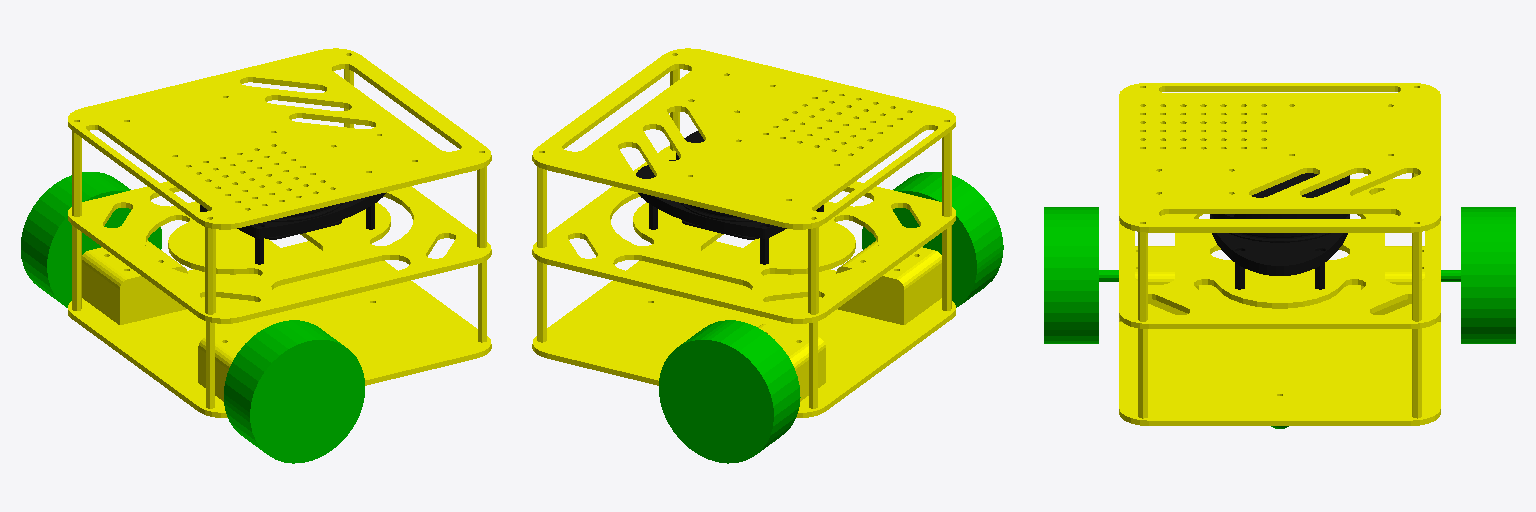
robot.urdf — rham_bot:
<?xml version="1.0" encoding="utf-8"?>
<!-- This URDF was automatically created by SolidWorks to URDF Exporter! Originally created by [author] ([email redacted]) 
     Commit Version: 1.6.0-4-g7f85cfe  Build Version: 1.6.7995.38578
     For more information, please see http://wiki.ros.org/sw_urdf_exporter -->
<robot name="rham_bot">

  <gazebo>
    <plugin name="gazebo_ros_control" filename="libgazebo_ros_control.so">
      <robotNamespace>/rham_bot</robotNamespace>
    </plugin>
  </gazebo>

  <gazebo reference="basefoot_link">
    <mu1>1.5</mu1>
    <mu2>1.5</mu2>
    <selfCollide>true</selfCollide>
    <material>Gazebo/Yellow</material>
  </gazebo>

  <gazebo reference="left_motor_link">
    <mu1>1.5</mu1>
    <mu2>1.5</mu2>
    <selfCollide>true</selfCollide>
    <material>Gazebo/Green</material>
  </gazebo>

  <gazebo reference="right_motor_link">
    <mu1>1.5</mu1>
    <mu2>1.5</mu2>
    <selfCollide>true</selfCollide>
    <material>Gazebo/Green</material>
  </gazebo>

  <gazebo reference="caster_link">
    <mu1>0.001</mu1>
    <mu2>0.001</mu2>
    <selfCollide>true</selfCollide>
    <material>Gazebo/Green</material>
  </gazebo>

  <gazebo reference="laser_link">
    <mu1>1.5</mu1>
    <mu2>1.5</mu2>
    <selfCollide>true</selfCollide>
    <material>Gazebo/Black</material>
  </gazebo>

  <gazebo>
    <plugin name="differential_drive_controller" filename="libgazebo_ros_diff_drive.so">
      <!-- info -->
      <leftJoint>left_motor_link_jt</leftJoint>
      <rightJoint>right_motor_link_jt</rightJoint>
      <wheelSeparation>0.234</wheelSeparation>
      <wheelDiameter>0.065</wheelDiameter>

      <!-- speed -->
      <wheelAcceleration>1.0</wheelAcceleration>
      <max_wheel_acceleration>10.0</max_wheel_acceleration>
      <wheelTorque>3</wheelTorque>

      <!-- node -->
      <commandTopic>cmd_vel</commandTopic>
      <odometryTopic>odom</odometryTopic>
      <odometryFrame>odom</odometryFrame>
      <publishOdom>true</publishOdom>
      <robotBaseFrame>basefoot_link</robotBaseFrame>
      <odometrySource>1</odometrySource>
      <publishWheelTF>true</publishWheelTF>
      <publishWheelJointState>true</publishWheelJointState>
    </plugin>
  </gazebo>

  <link name="basefoot_link">
    <inertial>
      <origin xyz="-0.0144145743589182 -0.000274313076569756 0.0386925952322384" rpy="0 0 0" />
      <mass value="0.286709642035174" />
      <inertia ixx="0.000455635294970899" ixy="4.80014762382226E-06" ixz="2.06034221124651E-21" iyy="0.000503838101926631" iyz="-2.44158544404845E-21" izz="0.000949529356246916" />
    </inertial>
    <visual>
      <origin xyz="0 0 0" rpy="0 0 0" />
      <geometry>
        <mesh filename="package://rham_description/meshes/basefoot_link.STL" />
      </geometry>
      <material name="brightyellow">
        <color rgba="1.0 0.9921568627450981 0.00392156862745098 1.0" />
      </material>
    </visual>
    <collision>
      <origin xyz="0 0 0" rpy="0 0 0" />
      <geometry>
        <mesh filename="package://rham_description/meshes/basefoot_link.STL" />
      </geometry>
    </collision>
  </link>
  <link name="left_motor_link">
    <inertial>
      <origin xyz="-6.93889390390723E-18 -0.013634747706422 0" rpy="0 0 0" />
      <mass value="0.0986208765814908" />
      <inertia ixx="3.46254938837746E-05" ixy="8.08369757275774E-23" ixz="4.95401915443896E-22" iyy="5.66785600544717E-05" iyz="9.10504727518394E-22" izz="3.46254938837746E-05" />
    </inertial>
    <visual>
      <origin xyz="0 0 0" rpy="0 0 0" />
      <geometry>
        <mesh filename="package://rham_description/meshes/left_motor_link.STL" />
      </geometry>
      <material name="Green">
        <color rgba="0.0 0.8 0.0 1.0"/>
      </material>
    </visual>
    <collision>
      <origin xyz="0 0 0" rpy="0 0 0" />
      <geometry>
        <mesh filename="package://rham_description/meshes/left_motor_link.STL" />
      </geometry>
    </collision>
  </link>
  <joint name="left_motor_link_jt" type="continuous">
    <origin xyz="-0.051108 0.117 0.016" rpy="0 0 0" />
    <parent link="basefoot_link" />
    <child link="left_motor_link" />
    <axis xyz="0 1 0" />
  </joint>
  <link name="right_motor_link">
    <inertial>
      <origin xyz="6.93889390390723E-18 0.013634747706422 0" rpy="0 0 0" />
      <mass value="0.0986208765814908" />
      <inertia ixx="3.46254938837746E-05" ixy="-9.29432687482328E-22" ixz="2.27226756606387E-22" iyy="5.66785600544717E-05" iyz="4.98729854505524E-23" izz="3.46254938837746E-05" />
    </inertial>
    <visual>
      <origin xyz="0 0 0" rpy="0 0 0" />
      <geometry>
        <mesh filename="package://rham_description/meshes/right_motor_link.STL" />
      </geometry>
      <material name="Green">
        <color rgba="0.0 0.8 0.0 1.0"/>
      </material>
    </visual>
    <collision>
      <origin xyz="0 0 0" rpy="0 0 0" />
      <geometry>
        <mesh filename="package://rham_description/meshes/right_motor_link.STL" />
      </geometry>
    </collision>
  </link>
  <joint name="right_motor_link_jt" type="continuous">
    <origin xyz="-0.051108 -0.117 0.016" rpy="0 0 0" />
    <parent link="basefoot_link" />
    <child link="right_motor_link" />
    <axis xyz="0 1 0" />
  </joint>
  <link name="laser_link">
    <inertial>
      <origin xyz="0.00149239831069729 0.000430205916664227 -0.0174246639655813" rpy="0 0 0" />
      <mass value="0.129722713096946" />
      <inertia ixx="4.39659525903753E-05" ixy="-1.12117402106385E-06" ixz="-1.45144638008786E-07" iyy="5.34581954301131E-05" iyz="-1.57444487872166E-07" izz="8.85145581368939E-05" />
    </inertial>
    <visual>
      <origin xyz="0 0 0" rpy="0 0 0" />
      <geometry>
        <mesh filename="package://rham_description/meshes/laser_link.STL" />
      </geometry>
      <material name="Black">
        <color rgba="0.1 0.1 0.1 1.0"/>
      </material>
    </visual>
    <collision>
      <origin xyz="0 0 0" rpy="0 0 0" />
      <geometry>
        <mesh filename="package://rham_description/meshes/laser_link.STL" />
      </geometry>
    </collision>
  </link>
  <joint name="laser_link_jt" type="fixed">
    <origin xyz="-0.00010752 0 0.0976" rpy="0 0 0" />
    <parent link="basefoot_link" />
    <child link="laser_link" />
    <axis xyz="0 0 0" />
  </joint>
  <link name="caster_link">
    <inertial>
      <origin xyz="0 -6.93889390390723E-18 0.00482774636510501" rpy="0 0 0" />
      <mass value="0.00218772658414359" />
      <inertia ixx="6.00363809142504E-08" ixy="-1.83934595193676E-25" ixz="-2.43174756024737E-24" iyy="6.00363809142504E-08" iyz="-1.24236334383657E-25" izz="5.71322676874058E-08" />
    </inertial>
    <visual>
      <origin xyz="0 0 0" rpy="0 0 0" />
      <geometry>
        <mesh filename="package://rham_description/meshes/caster_link.STL" />
      </geometry>
      <material name="Green">
        <color rgba="0.0 0.8 0.0 1.0"/>
      </material>
    </visual>
    <collision>
      <origin xyz="0 0 0" rpy="0 0 0" />
      <geometry>
        <mesh filename="package://rham_description/meshes/caster_link.STL" />
      </geometry>
    </collision>
  </link>
  <joint name="caster_link_jt" type="fixed">
    <origin xyz="0.054892 0 -0.01425" rpy="0 0 0" />
    <parent link="basefoot_link" />
    <child link="caster_link" />
    <axis xyz="0 0 1" />
  </joint>
</robot>

--- Facts derived from the render (not from the file) ---
The picture shows the robot from 3 angles, left to right: view 1: azimuth 30°, elevation 25°; view 2: azimuth 150°, elevation 25°; view 3: azimuth 270°, elevation 25°; orthographic projection.
Robot: rham_bot — 5 links, 4 joints (2 continuous, 2 fixed); root link basefoot_link; default pose: every joint at zero.
Visible links, largest first — view 1: basefoot_link, right_motor_link, left_motor_link, laser_link; view 2: basefoot_link, left_motor_link, right_motor_link, laser_link; view 3: basefoot_link, left_motor_link, right_motor_link, laser_link.
Link boxes in pixels (x1,y1,x2,y2): basefoot_link: [68, 48, 491, 417]; right_motor_link: [224, 320, 364, 463]; left_motor_link: [21, 172, 161, 307]; laser_link: [200, 193, 385, 264]; basefoot_link: [532, 48, 955, 417]; left_motor_link: [659, 320, 800, 463]; right_motor_link: [862, 172, 1003, 307]; laser_link: [636, 131, 823, 264]; basefoot_link: [1119, 83, 1440, 425]; left_motor_link: [1441, 207, 1515, 343]; right_motor_link: [1044, 207, 1118, 343]; laser_link: [1210, 173, 1349, 289].
Bounding box of the posed robot: 0.17 × 0.234 × 0.124 m (x, y, z).
Meshes: 5 distinct files referenced, 5 mesh visuals loaded (5 binary STL).
